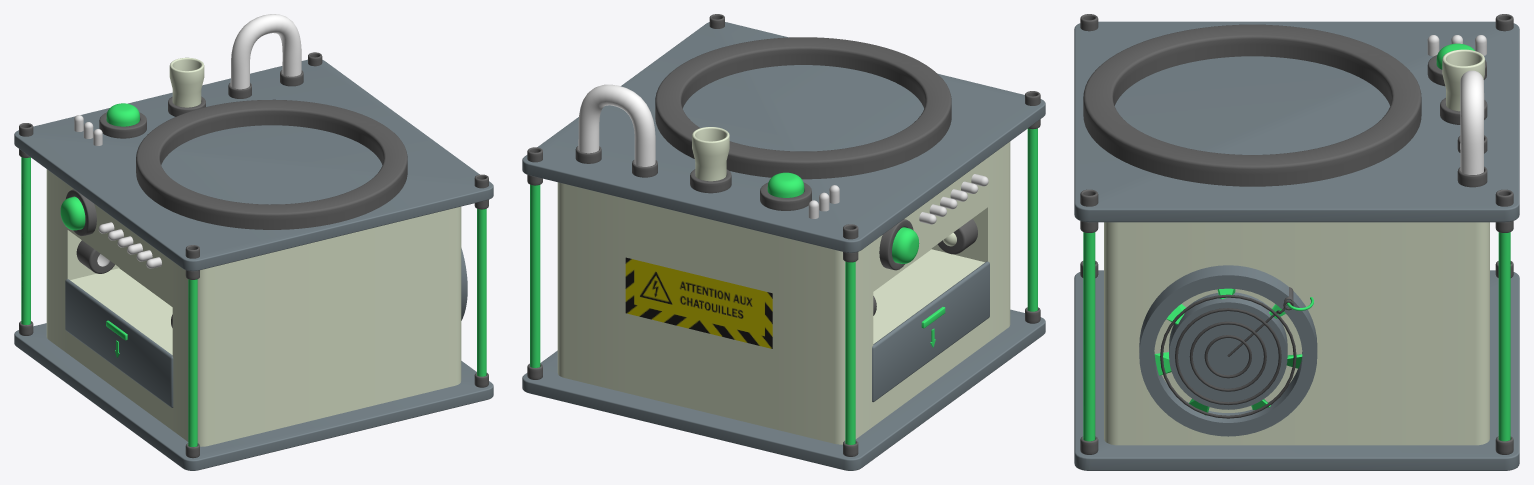
Rendered from cab_flo_v-2.gltf.
The picture shows the model from 3 angles, left to right: view 1: azimuth 30°, elevation 25°; view 2: azimuth 150°, elevation 25°; view 3: azimuth 270°, elevation 25°; orthographic projection. The views are drawn at different scales.
Parts seen in each view (by area): view 1: bloc_cab-cab_body, base_top, dome_place, base_bottom, cache, tige_ecrou2 (×3), GLASS_tube, tube, button (×2), button_support (×2), big; view 2: bloc_cab-cab_body, base_top, dome_place, base_bottom, bloc_cab-etiquette, cache, tige_ecrou2 (×3), GLASS_tube, tube, button (×2), button_support (×2), big (+1 smaller); view 3: bloc_cab-cab_body, base_top, dome_place, base_bottom, outer, iner, tige_ecrou2 (×2), circle (×4), GLASS_tube, tube.
Boxes of the visible parts, bbox=[...] form: bloc_cab-cab_body: bbox=[46, 169, 461, 446]; base_top: bbox=[14, 59, 493, 271]; dome_place: bbox=[136, 99, 407, 229]; base_bottom: bbox=[14, 323, 493, 470]; cache: bbox=[65, 279, 173, 407]; tige_ecrou2 (×3): bbox=[21, 157, 486, 446]; GLASS_tube: bbox=[230, 14, 301, 89]; tube: bbox=[169, 57, 204, 107]; button (×2): bbox=[60, 103, 139, 230]; button_support (×2): bbox=[65, 112, 146, 236]; big: bbox=[76, 240, 114, 273]; bloc_cab-cab_body: bbox=[557, 141, 1010, 444]; base_top: bbox=[522, 22, 1045, 252]; dome_place: bbox=[655, 37, 951, 179]; base_bottom: bbox=[522, 309, 1045, 470]; bloc_cab-etiquette: bbox=[625, 257, 772, 348]; cache: bbox=[872, 261, 989, 402]; tige_ecrou2 (×3): bbox=[530, 128, 1037, 444]; GLASS_tube: bbox=[578, 84, 655, 166]; tube: bbox=[692, 127, 729, 181]; button (×2): bbox=[767, 172, 919, 263]; button_support (×2): bbox=[760, 182, 913, 270]; big: bbox=[937, 218, 977, 254]; bloc_cab-cab_body: bbox=[1104, 222, 1489, 445]; base_top: bbox=[1074, 21, 1519, 222]; dome_place: bbox=[1083, 24, 1421, 186]; base_bottom: bbox=[1074, 270, 1519, 470]; outer: bbox=[1139, 265, 1317, 436]; iner: bbox=[1169, 292, 1287, 409]; tige_ecrou2 (×2): bbox=[1083, 232, 1510, 441]; circle (×4): bbox=[1160, 294, 1296, 418]; GLASS_tube: bbox=[1460, 70, 1484, 174]; tube: bbox=[1442, 49, 1484, 111].
Size of the model in its own units: 15.32 by 13.08 by 15.
Materials: 7 (1 with a texture image).
